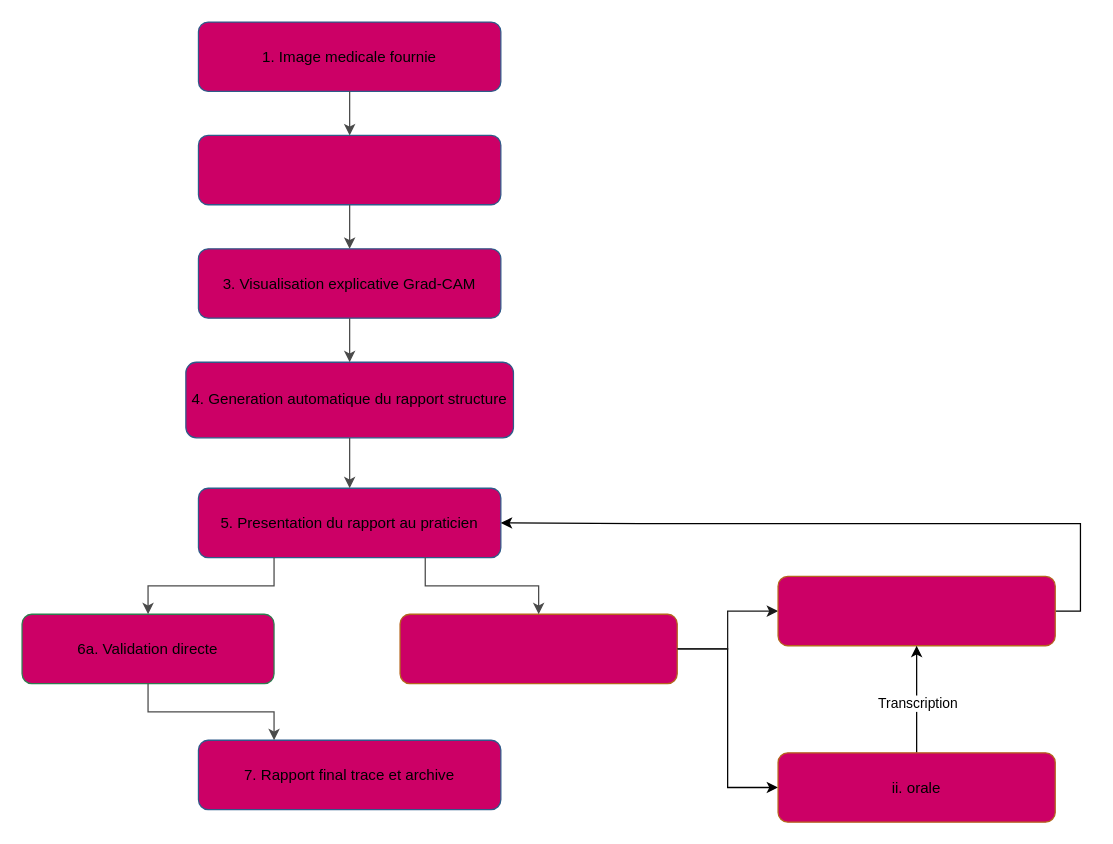
This 1113x844 diagram has some shape labels left out. Each missing label, with the centre of its shape:
2. Classification et score de confiance: the point at 349,169
6b. Refutation et correction: the point at 538,648
i. ecrite: the point at 916,610
